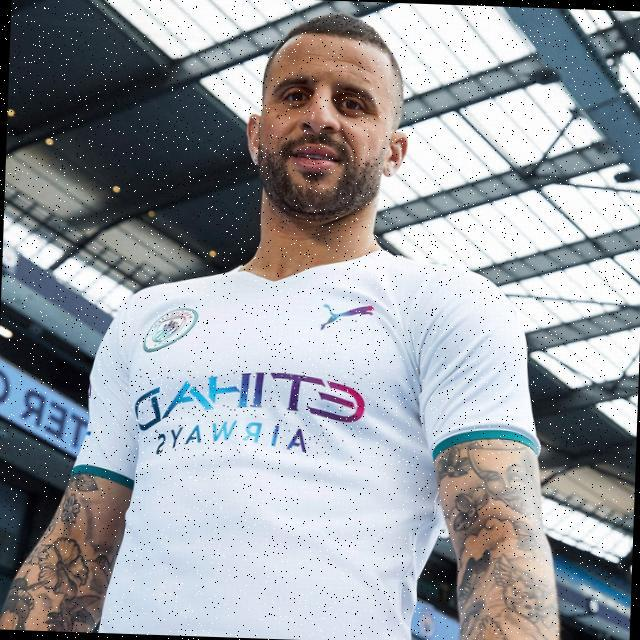Etihad Airways: (133, 366, 366, 462)
Puma: (321, 301, 374, 332)
